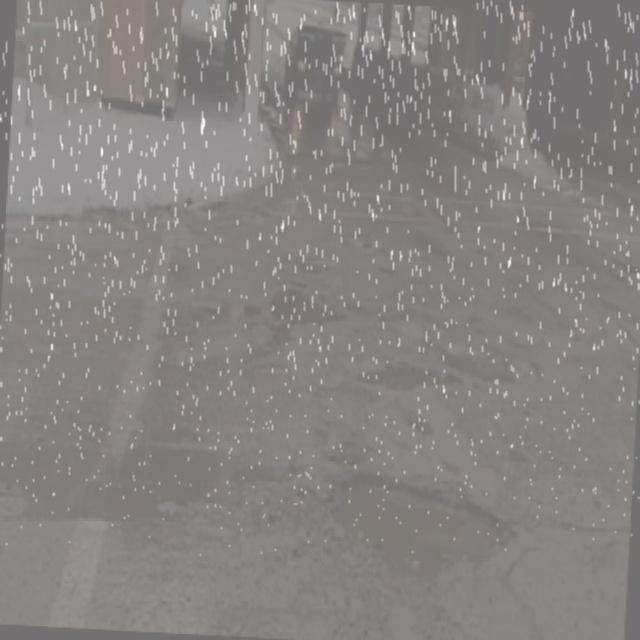Pothole: (0, 261, 273, 566), (327, 448, 523, 588), (358, 341, 448, 417)
